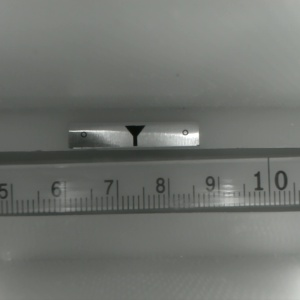0: (274, 170, 288, 191)
1: (254, 171, 263, 191)
5: (0, 183, 8, 199)
6: (49, 181, 60, 196)
7: (103, 179, 113, 195)
8: (155, 177, 164, 193)
9: (205, 176, 215, 192)
finger: (123, 126, 145, 146)
